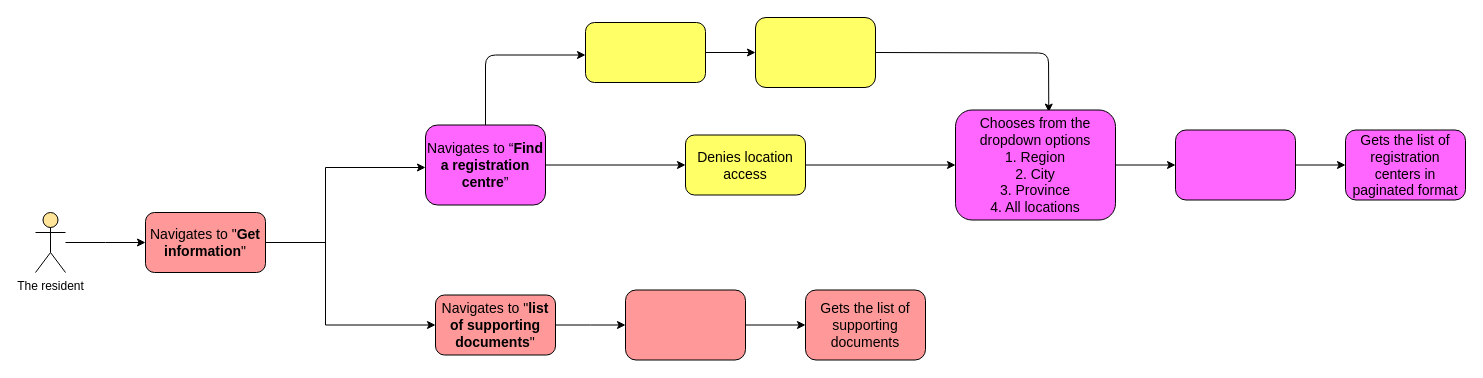
Some shapes in this 1483 by 378 pixel diagram are drawn without their labels. The centre of each missing label's shape, as x and y in pixels:
Allows location access: the point at 645,52
Clicks on "search" button: the point at 685,324
Enters values for the chosen option: the point at 1235,164
Gets the list of registration centers near him: the point at 815,52
